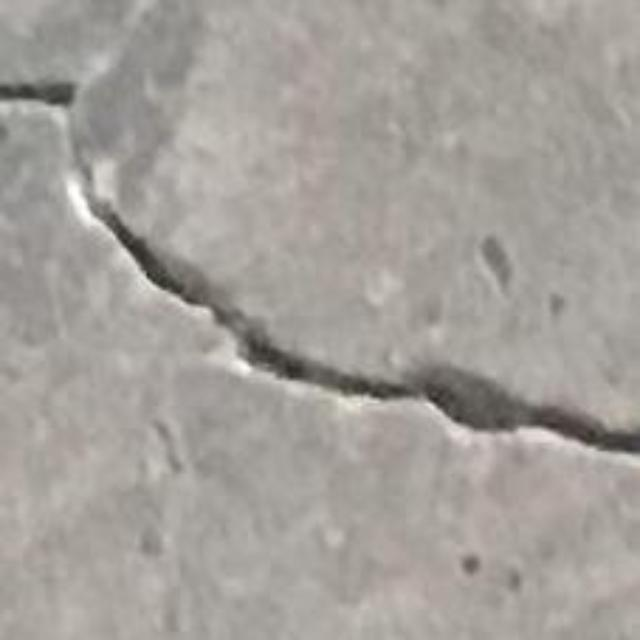crack: (0, 79, 639, 456)
